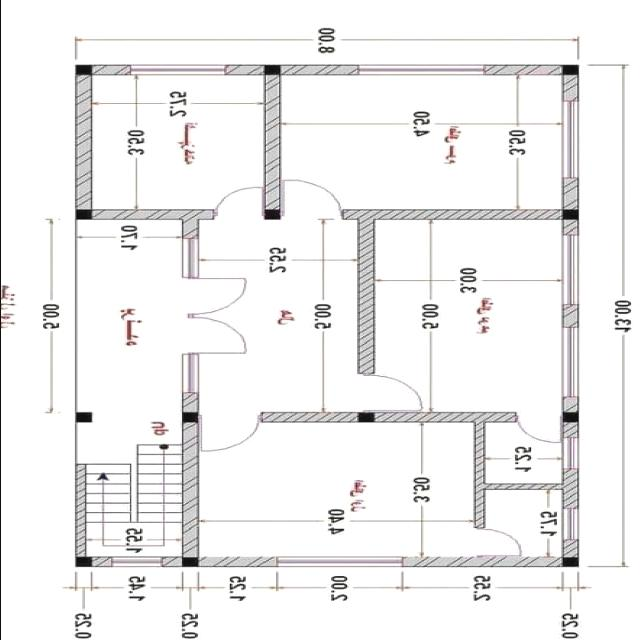column: (178, 410, 202, 426), (72, 409, 95, 425), (354, 409, 378, 424), (72, 206, 94, 222), (558, 555, 582, 569), (260, 63, 283, 77), (178, 555, 200, 569), (72, 555, 94, 569), (558, 410, 580, 424), (558, 63, 580, 77), (559, 208, 580, 222), (73, 63, 94, 77), (262, 207, 282, 220)
